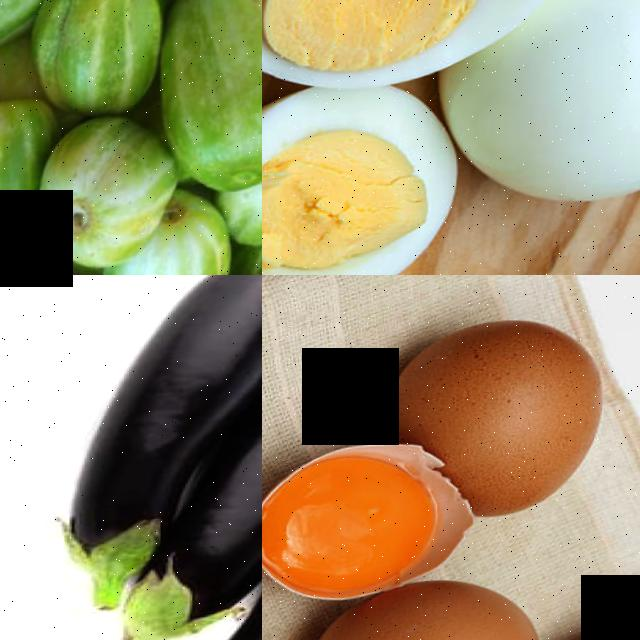cucumber: (161, 0, 262, 203), (35, 0, 170, 123), (0, 97, 55, 275)
egg_: (262, 84, 471, 275), (449, 313, 612, 530), (262, 0, 550, 110), (262, 455, 444, 604), (536, 0, 640, 223), (306, 577, 550, 640)
eggplant: (52, 275, 262, 578)
